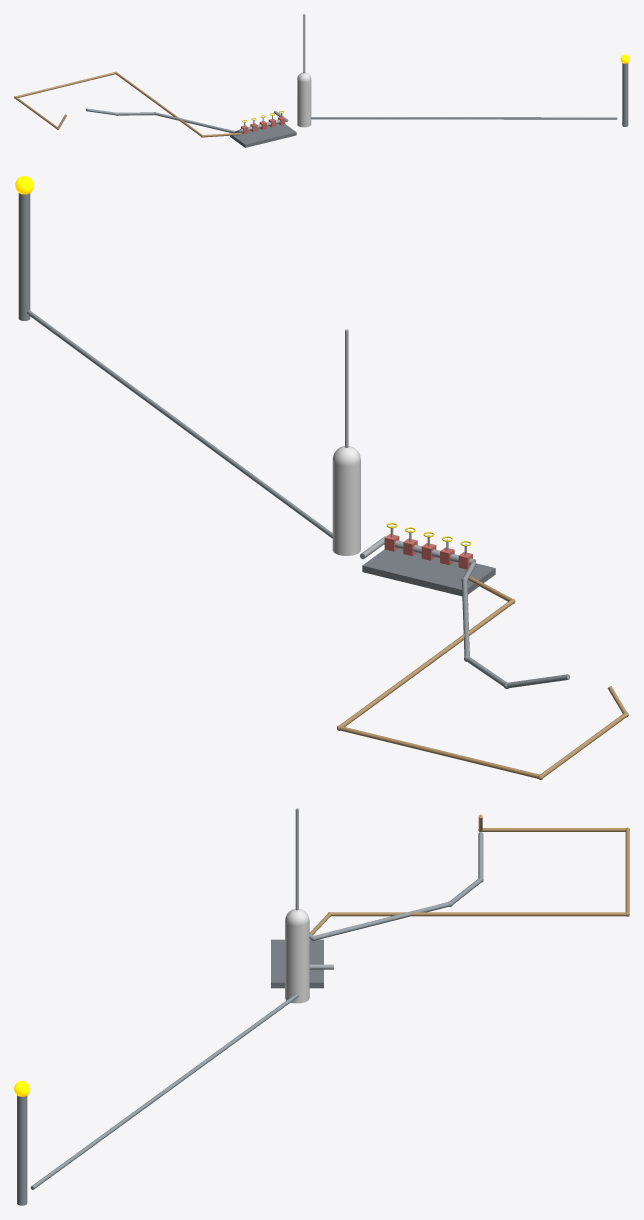
File: choke.glb
3 views of the same model, one above another, from view 1: azimuth 30°, elevation 25°; view 2: azimuth 150°, elevation 25°; view 3: azimuth 270°, elevation 25° (orthographic). The views are drawn at different scales.
Size of the model in its own units: 42.82 by 10.4 by 30.22.
